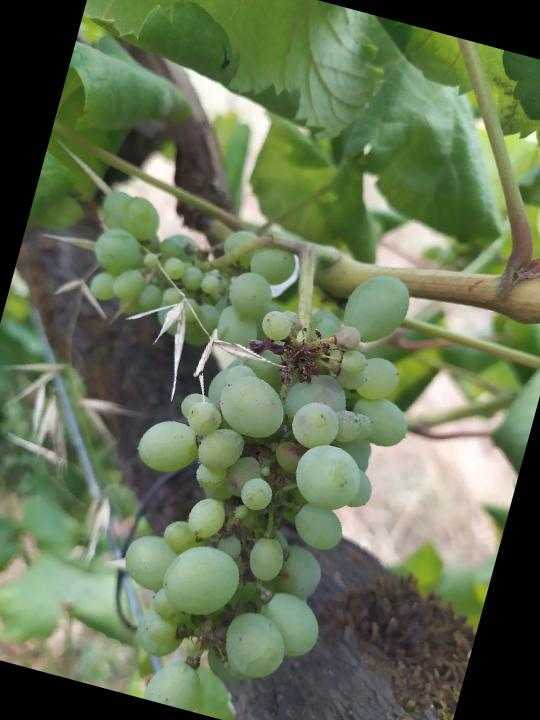grape: (73, 220, 450, 720)
